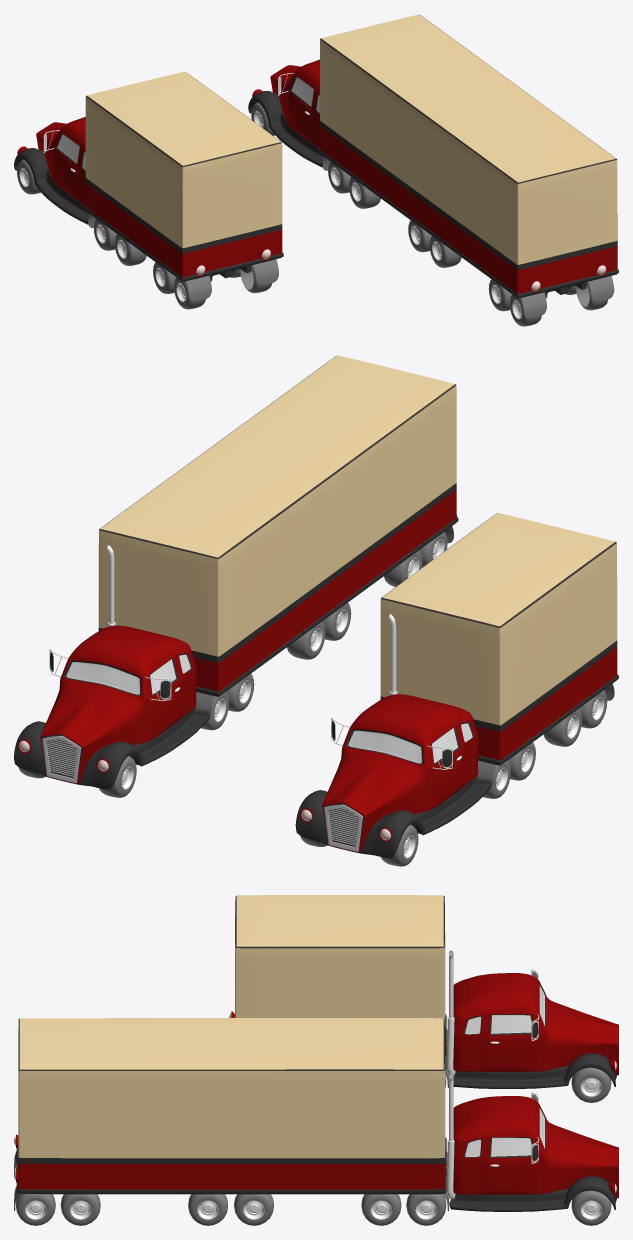
Rendered from Semi_S.fbx.
3 views of the same model, one above another, from view 1: azimuth 30°, elevation 25°; view 2: azimuth 150°, elevation 25°; view 3: azimuth 270°, elevation 25° (orthographic). The views are drawn at different scales.
Parts seen in each view (by area): view 1: pCube42, pCube41, polySurface20, polySurface13, polySurface23, polySurface12, polySurface18, polySurface21, polySurface14, polySurface19, polySurface10, polySurface15 (+1 smaller); view 2: pCube42, pCube41, polySurface16, polySurface10, polySurface19, polySurface14, polySurface23, polySurface12, polySurface13, polySurface18, polySurface21; view 3: pCube42, pCube41, polySurface16, polySurface10, polySurface21, polySurface15, polySurface19, polySurface23, polySurface20, polySurface18.
Boxes of the visible parts, left/top/right/bottom form: pCube42: left=248, top=14, right=618, bottom=318; pCube41: left=14, top=71, right=283, bottom=301; polySurface20: left=509, top=282, right=608, bottom=326; polySurface13: left=174, top=265, right=272, bottom=309; polySurface23: left=429, top=236, right=461, bottom=267; polySurface12: left=114, top=234, right=146, bottom=265; polySurface18: left=349, top=177, right=380, bottom=208; polySurface21: left=488, top=279, right=576, bottom=311; polySurface14: left=153, top=262, right=240, bottom=293; polySurface19: left=408, top=220, right=431, bottom=252; polySurface10: left=17, top=159, right=40, bottom=194; polySurface15: left=328, top=161, right=350, bottom=193; pCube42: left=14, top=355, right=458, bottom=789; pCube41: left=295, top=513, right=618, bottom=858; polySurface16: left=18, top=756, right=136, bottom=797; polySurface10: left=300, top=824, right=418, bottom=866; polySurface19: left=287, top=621, right=325, bottom=659; polySurface14: left=543, top=709, right=581, bottom=746; polySurface23: left=322, top=603, right=351, bottom=640; polySurface12: left=508, top=742, right=535, bottom=780; polySurface13: left=579, top=690, right=607, bottom=728; polySurface18: left=226, top=674, right=254, bottom=711; polySurface21: left=384, top=550, right=422, bottom=586; pCube42: left=14, top=1018, right=618, bottom=1211; pCube41: left=235, top=895, right=618, bottom=1088; polySurface16: left=571, top=1190, right=611, bottom=1225; polySurface10: left=571, top=1067, right=611, bottom=1102; polySurface21: left=60, top=1194, right=100, bottom=1225; polySurface15: left=406, top=1194, right=446, bottom=1225; polySurface19: left=234, top=1194, right=273, bottom=1225; polySurface23: left=188, top=1194, right=227, bottom=1225; polySurface20: left=16, top=1166, right=55, bottom=1225; polySurface18: left=361, top=1194, right=401, bottom=1225.
Bounding box in the file's own units: 4503 × 1936 × 6517.
